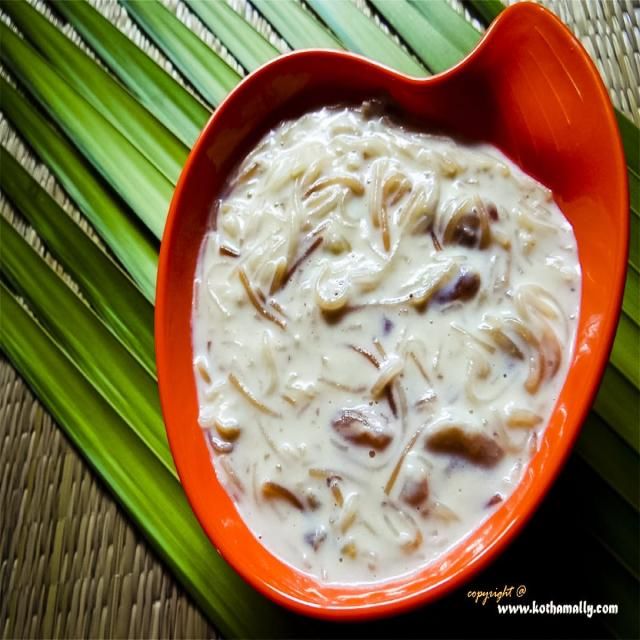shavige payasa: (183, 84, 588, 600)
